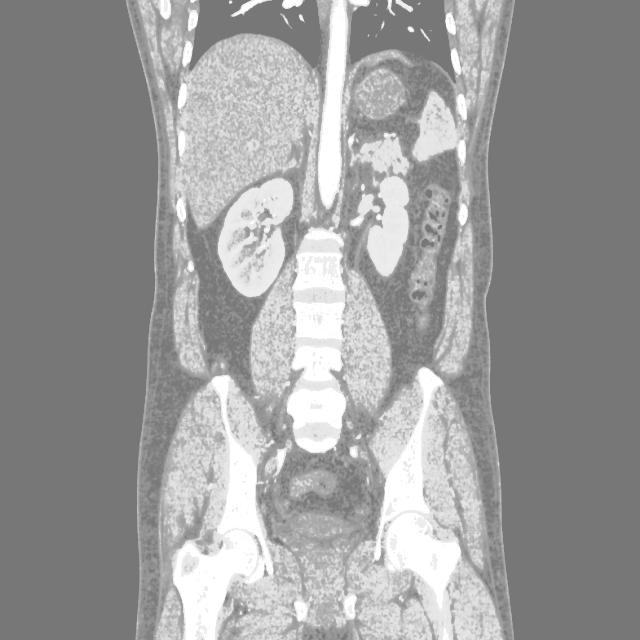NORMAL: (118, 30, 546, 522)
